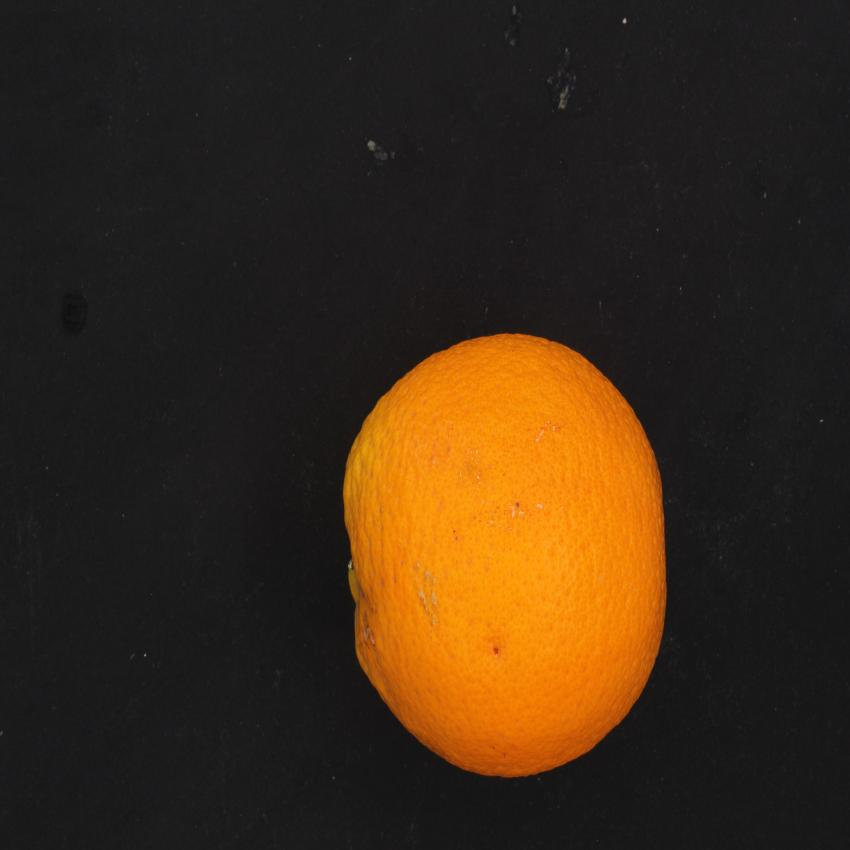Mal estado: (333, 322, 684, 787)
